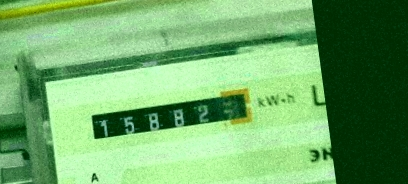1: (98, 117, 109, 136)
2: (195, 101, 210, 123)
5: (119, 113, 136, 134)
7: (220, 105, 234, 118)
8: (170, 104, 185, 127), (146, 109, 160, 130)
screen: (84, 84, 257, 146)
